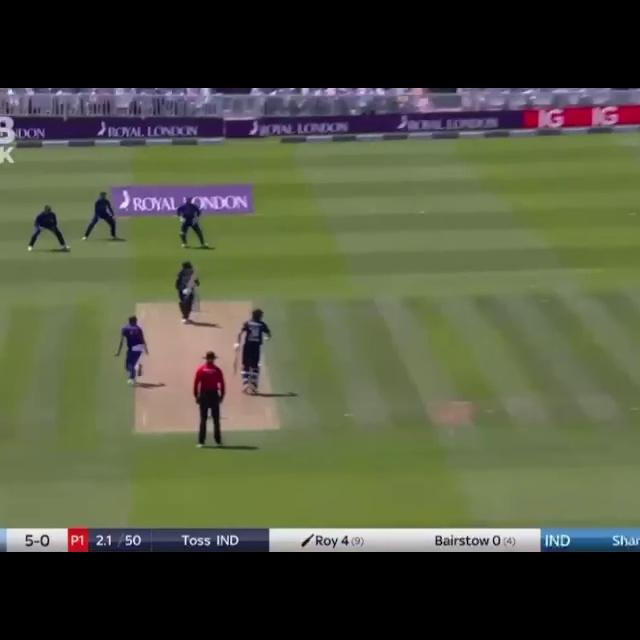umpire: (183, 349, 242, 450)
